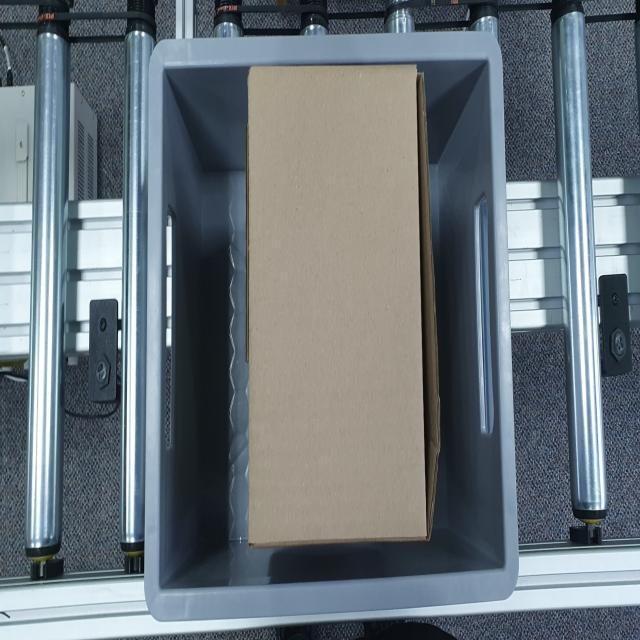box: (249, 64, 439, 544)
